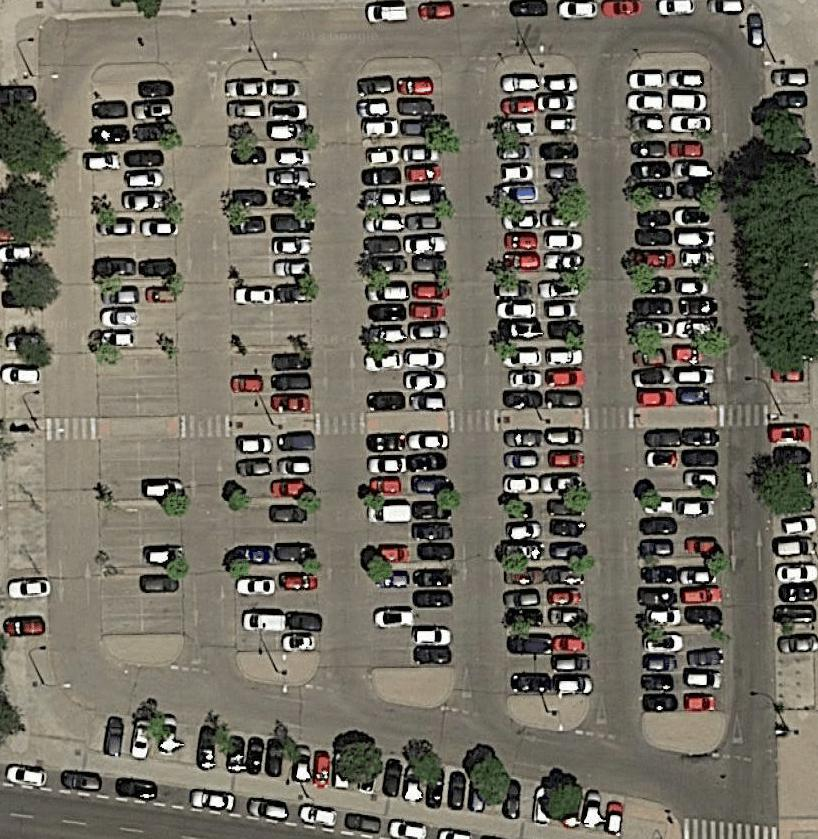parkingspot: (84, 710, 627, 838), (396, 70, 450, 414), (666, 67, 719, 409), (358, 70, 410, 416), (223, 74, 275, 417), (131, 75, 182, 421), (494, 69, 545, 413), (627, 66, 678, 410), (90, 77, 140, 421), (537, 69, 585, 413), (267, 74, 315, 417), (0, 83, 48, 421), (766, 421, 817, 712), (635, 427, 685, 716), (541, 427, 594, 698), (501, 427, 552, 699), (678, 426, 726, 715), (404, 429, 456, 671), (364, 431, 414, 671), (231, 433, 281, 654), (273, 432, 322, 654), (0, 441, 53, 639), (97, 437, 144, 638), (139, 436, 184, 637), (762, 66, 811, 157)
